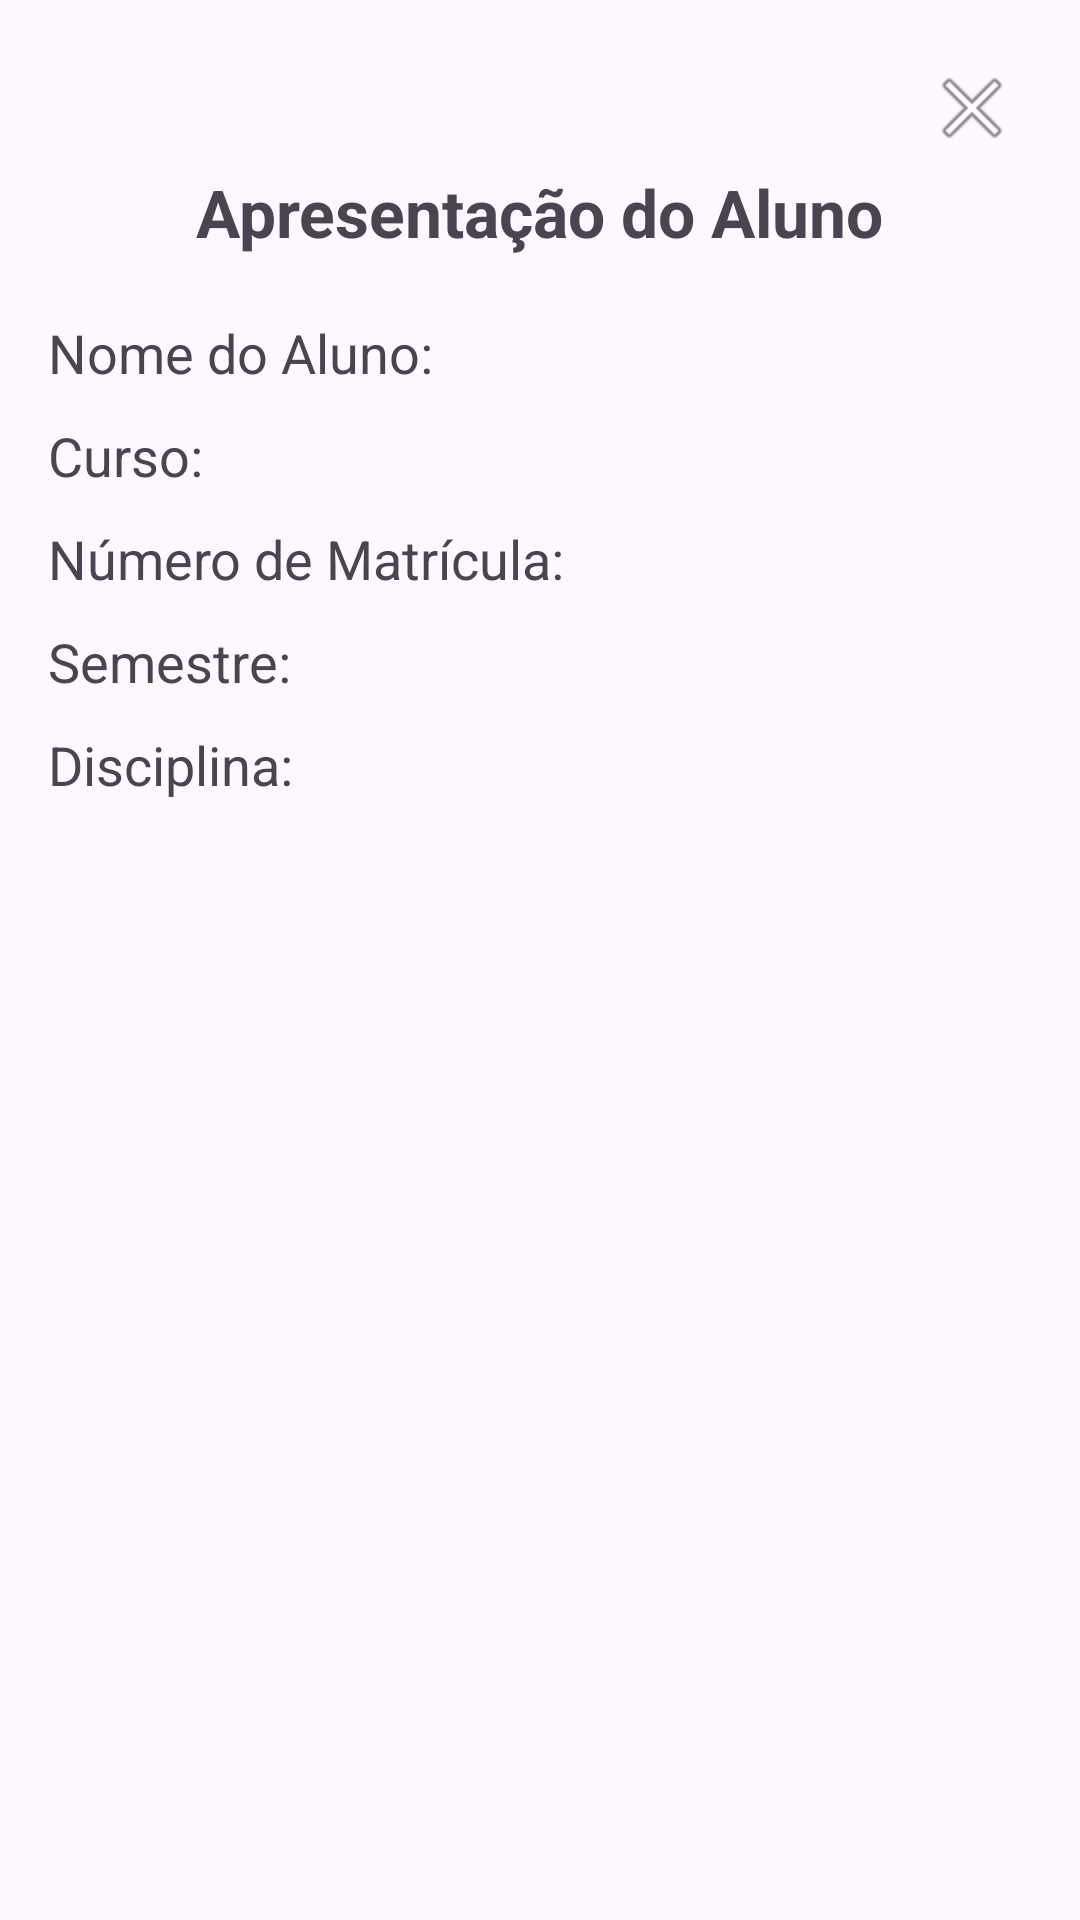

Icon bounding boxes for this 1080*1920 phone screenshot, format (x1, y1, x2, y2):
Voltar para a MainActivity: (942, 78, 1002, 138)
